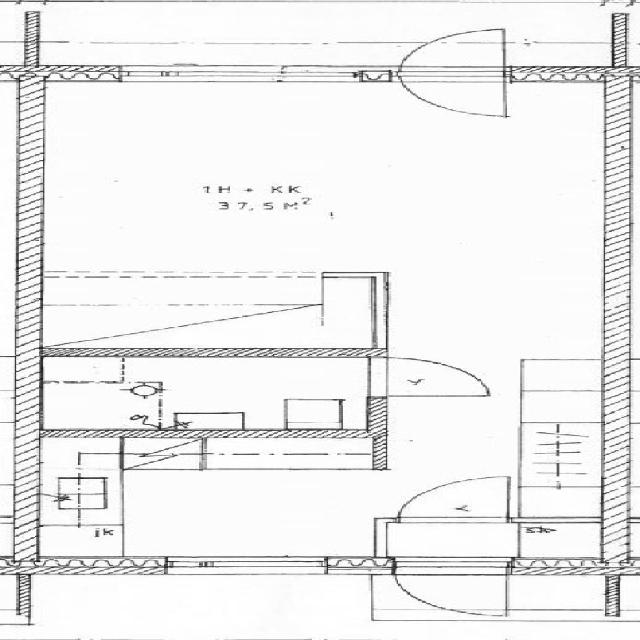door: (390, 30, 516, 119), (380, 559, 516, 620), (390, 470, 520, 524), (369, 354, 496, 398)
window: (108, 62, 334, 88), (145, 550, 338, 580), (267, 64, 381, 86)
zone: (36, 464, 393, 562), (31, 357, 380, 432)
